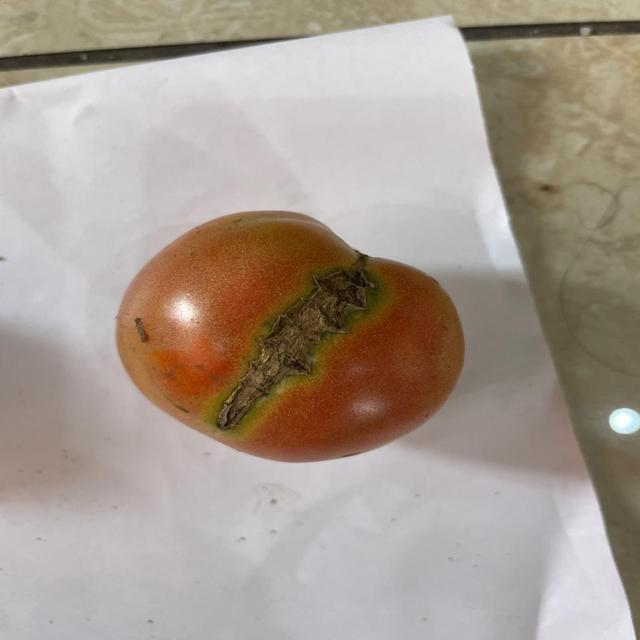Cracking Fruit: (102, 79, 255, 322)
